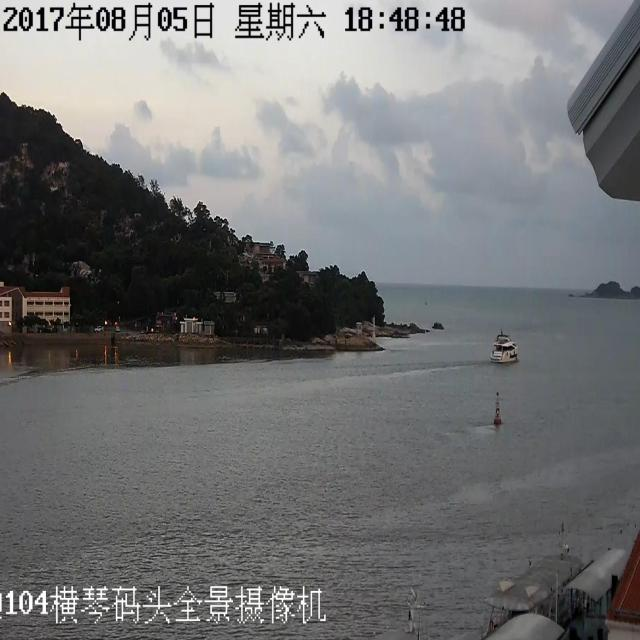buoy: (481, 384, 508, 441)
passenger ship: (492, 322, 520, 371)
reef: (574, 264, 640, 318)
